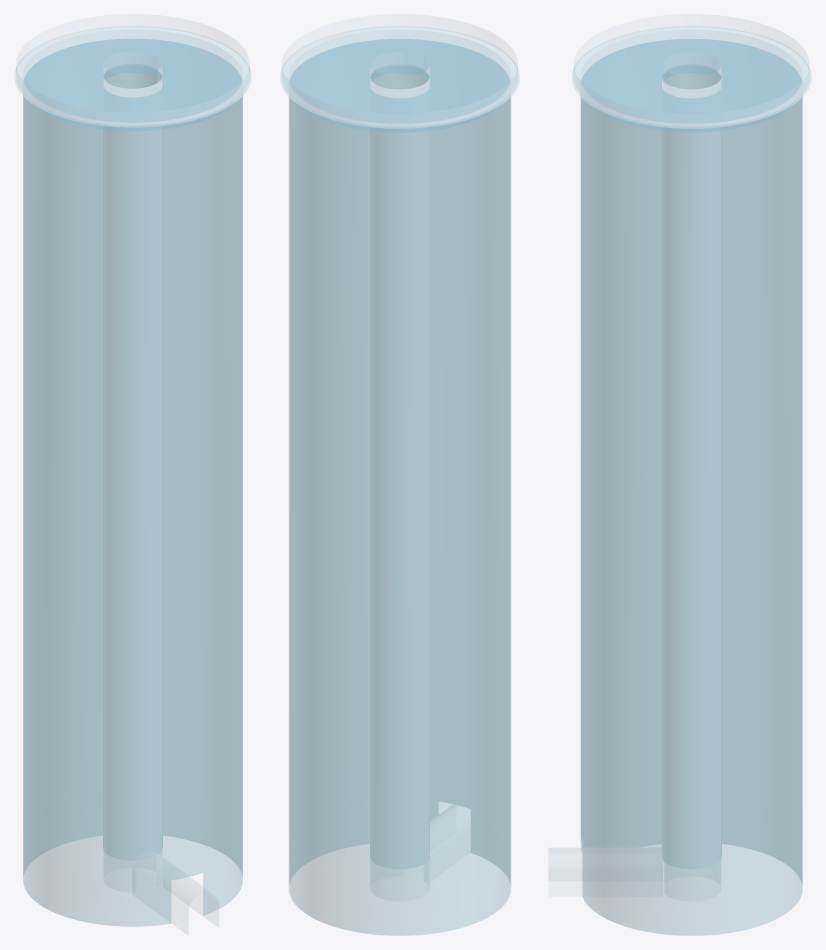
Rendered from kt_glass.glb.
3 views of the same model, side by side, from view 1: azimuth 30°, elevation 25°; view 2: azimuth 150°, elevation 25°; view 3: azimuth 270°, elevation 25° (orthographic).
Visible parts, largest first — view 1: kt_glass; view 2: kt_glass; view 3: kt_glass.
Part boxes in pixels (x1,y1,x2,y2): kt_glass: [14, 26, 251, 926]; kt_glass: [280, 26, 519, 935]; kt_glass: [548, 26, 811, 935].
Size of the model in its own units: 19.4 by 73.65 by 21.3.
